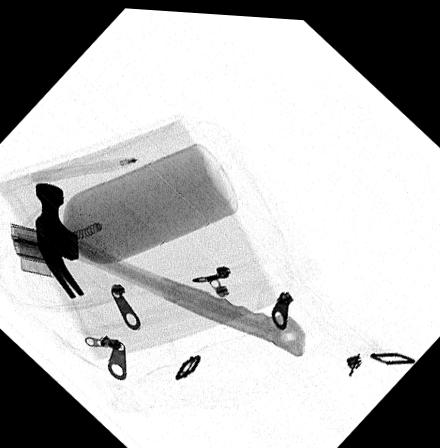Hammer: (34, 180, 305, 352)
